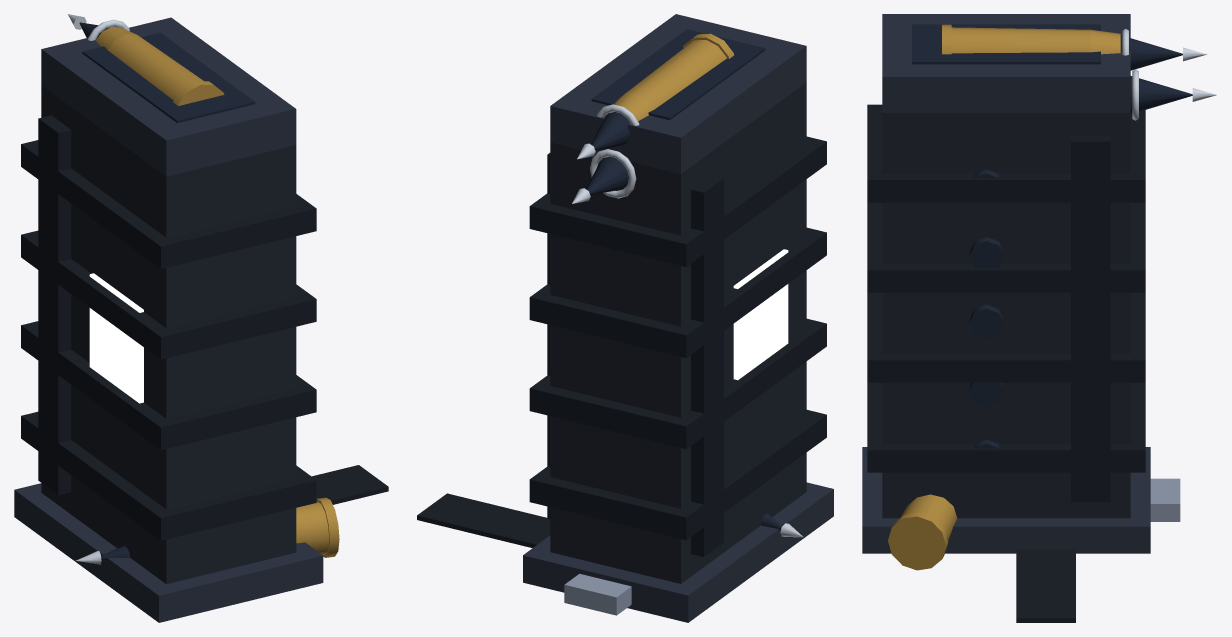
The model's file is ammo_ap.glb.
3 renders of one model, left to right at view 1: azimuth 30°, elevation 25°; view 2: azimuth 150°, elevation 25°; view 3: azimuth 270°, elevation 25°, orthographic.
Parts seen in each view (by area): view 1: ammo_ap_mag, ammo_ap_lips, ammo_ap_base, ammo_ap_side_rail-1, ammo_ap_rib3, ammo_ap_rib0, ammo_ap_rib2, ammo_ap_rib1, ammo_ap_lip_cut, ammo_ap_label, ammo_ap_top_case, ammo_ap_loose_shadow (+3 smaller); view 2: ammo_ap_mag, ammo_ap_lips, ammo_ap_base, ammo_ap_side_rail-1, ammo_ap_rib3, ammo_ap_rib0, ammo_ap_rib2, ammo_ap_rib1, ammo_ap_lip_cut, ammo_ap_loose_shadow, ammo_ap_label, ammo_ap_top_case (+6 smaller); view 3: ammo_ap_mag, ammo_ap_lips, ammo_ap_side_rail1, ammo_ap_base, ammo_ap_rib3, ammo_ap_rib1, ammo_ap_rib0, ammo_ap_rib2, ammo_ap_loose_shadow, ammo_ap_lip_cut, ammo_ap_top_case, ammo_ap_loose_case (+8 smaller).
Boxes of the visible parts, x1=… form: ammo_ap_mag: x1=41, y1=85, x2=296, y2=584; ammo_ap_lips: x1=41, y1=17, x2=296, y2=176; ammo_ap_base: x1=14, y1=483, x2=323, y2=622; ammo_ap_side_rail-1: x1=38, y1=115, x2=71, y2=495; ammo_ap_rib3: x1=21, y1=140, x2=316, y2=268; ammo_ap_rib0: x1=21, y1=411, x2=316, y2=540; ammo_ap_rib2: x1=21, y1=230, x2=316, y2=359; ammo_ap_rib1: x1=21, y1=321, x2=316, y2=450; ammo_ap_lip_cut: x1=82, y1=32, x2=255, y2=122; ammo_ap_label: x1=89, y1=273, x2=143, y2=403; ammo_ap_top_case: x1=108, y1=34, x2=221, y2=105; ammo_ap_loose_shadow: x1=312, y1=465, x2=388, y2=504; ammo_ap_mag: x1=550, y1=82, x2=806, y2=583; ammo_ap_lips: x1=550, y1=14, x2=806, y2=173; ammo_ap_base: x1=523, y1=482, x2=833, y2=622; ammo_ap_side_rail-1: x1=691, y1=175, x2=723, y2=556; ammo_ap_rib3: x1=529, y1=136, x2=826, y2=266; ammo_ap_rib0: x1=529, y1=410, x2=826, y2=540; ammo_ap_rib2: x1=529, y1=227, x2=826, y2=358; ammo_ap_rib1: x1=529, y1=318, x2=826, y2=449; ammo_ap_lip_cut: x1=591, y1=29, x2=765, y2=120; ammo_ap_loose_shadow: x1=417, y1=493, x2=550, y2=547; ammo_ap_label: x1=733, y1=249, x2=788, y2=380; ammo_ap_top_case: x1=625, y1=40, x2=726, y2=109; ammo_ap_mag: x1=882, y1=113, x2=1130, y2=518; ammo_ap_lips: x1=882, y1=14, x2=1130, y2=112; ammo_ap_side_rail1: x1=1071, y1=135, x2=1110, y2=501; ammo_ap_base: x1=862, y1=447, x2=1150, y2=553; ammo_ap_rib3: x1=867, y1=104, x2=1145, y2=202; ammo_ap_rib1: x1=867, y1=292, x2=1145, y2=382; ammo_ap_rib0: x1=867, y1=382, x2=1145, y2=472; ammo_ap_rib2: x1=867, y1=202, x2=1145, y2=292; ammo_ap_loose_shadow: x1=1016, y1=549, x2=1075, y2=622; ammo_ap_lip_cut: x1=912, y1=24, x2=1100, y2=64; ammo_ap_top_case: x1=951, y1=27, x2=1090, y2=53; ammo_ap_loose_case: x1=891, y1=494, x2=957, y2=567.
Bounding box in the file's own units: 0.0772 × 0.108 × 0.0715.
